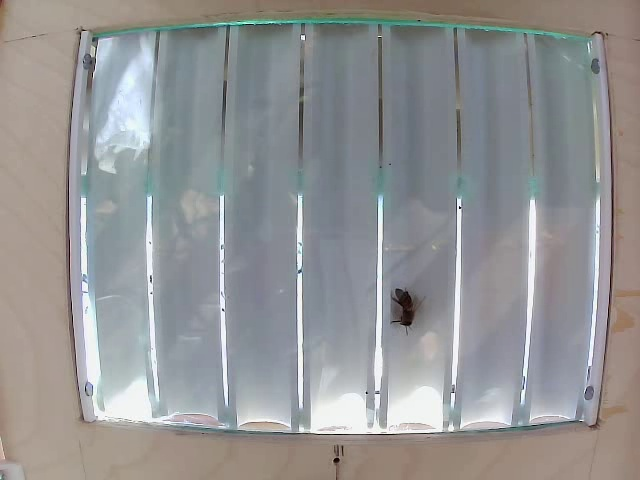bee: (389, 281, 422, 331)
